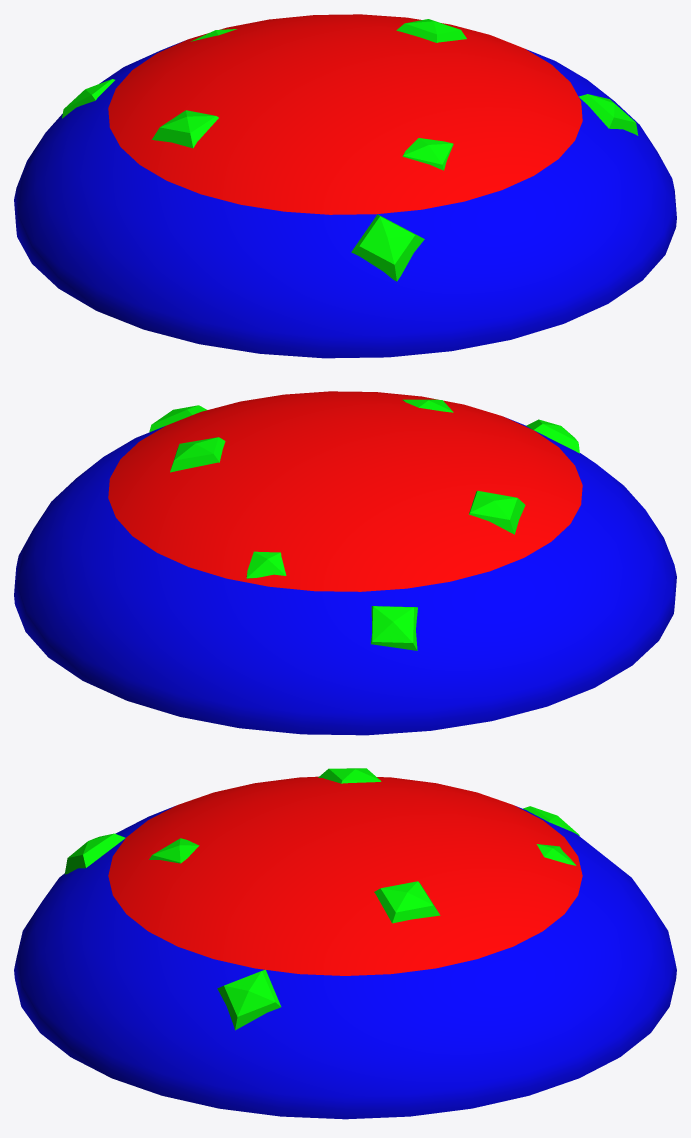
The model's file is Cookie.fbx.
3 renders of one model, top to bottom at view 1: azimuth 30°, elevation 25°; view 2: azimuth 150°, elevation 25°; view 3: azimuth 270°, elevation 25°, orthographic.
Visible parts, largest first — view 1: Cookie; view 2: Cookie; view 3: Cookie.
Boxes of the visible parts, x1,y1,x2,y2 form: Cookie: (14, 14, 676, 358); Cookie: (14, 391, 676, 735); Cookie: (14, 768, 676, 1119).
Size of the model in its own units: 30.93 by 8.25 by 30.93.
